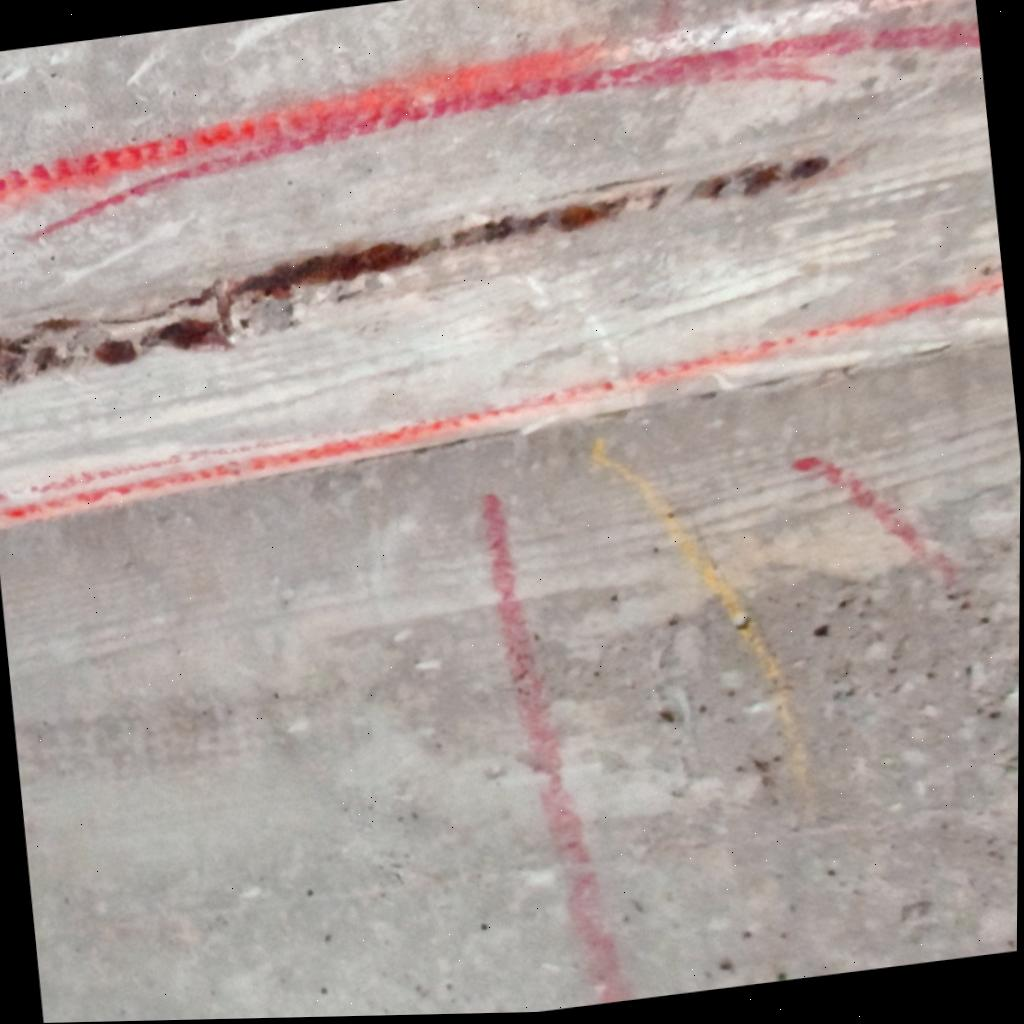exposed_rebar: (0, 186, 669, 386), (688, 154, 830, 200)
